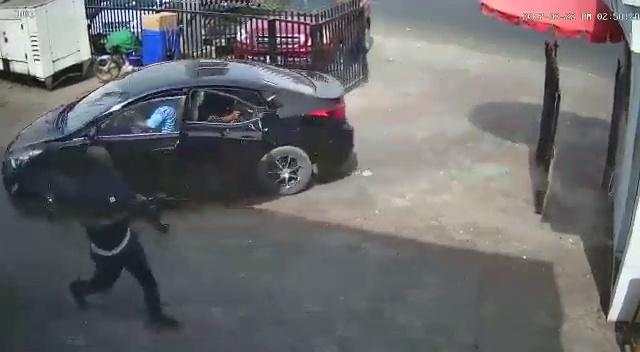weapon: (117, 190, 189, 234), (223, 99, 279, 118)
